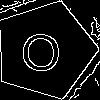O: (20, 25, 62, 72)
